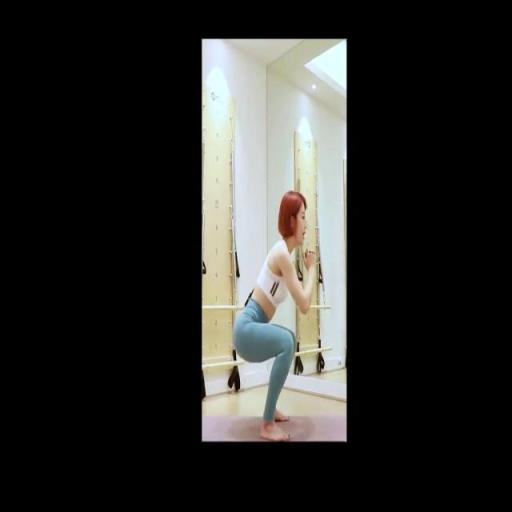Normal_BrenchPress: (229, 191, 319, 441)
